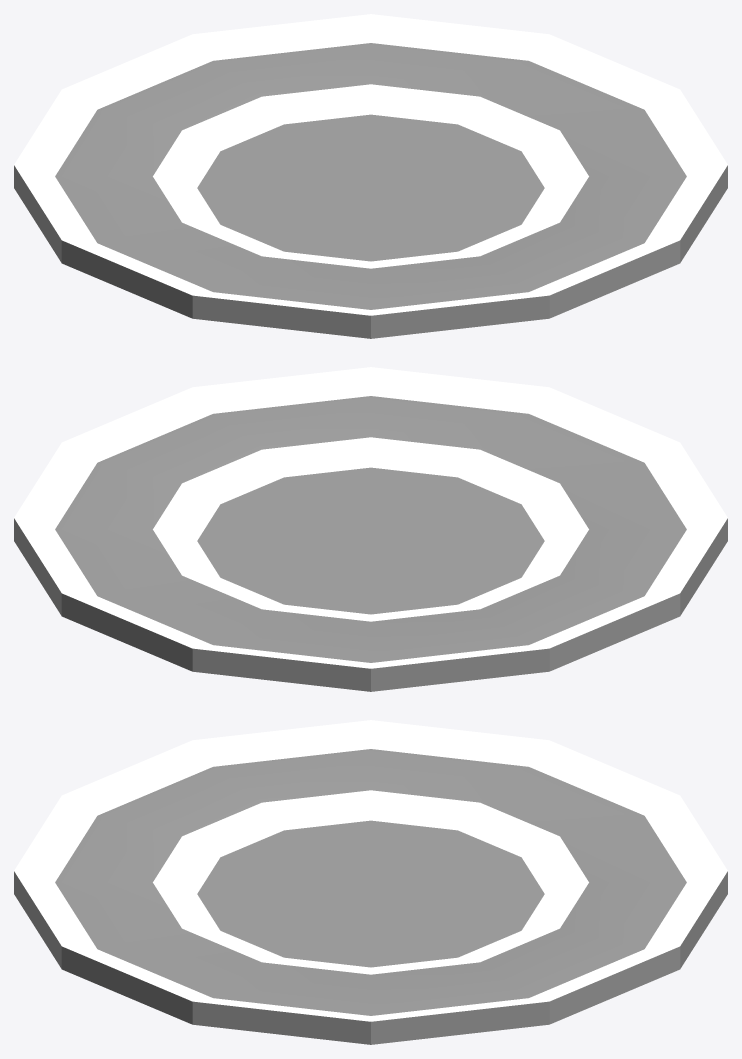
File: Table_Plate.fbx
3 views of the same model, one above another, from view 1: azimuth 30°, elevation 25°; view 2: azimuth 150°, elevation 25°; view 3: azimuth 270°, elevation 25° (orthographic).
Parts seen in each view (by area): view 1: Plate; view 2: Plate; view 3: Plate.
Boxes of the visible parts, x1,y1,x2,y2 form: Plate: (14,14,727,338); Plate: (14,367,727,691); Plate: (14,720,727,1044).
Bounding box in the file's own units: 0.2797 × 0.02 × 0.2797.
